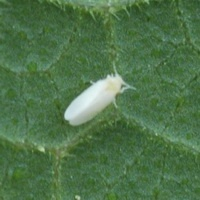insect: (64, 64, 135, 125)
